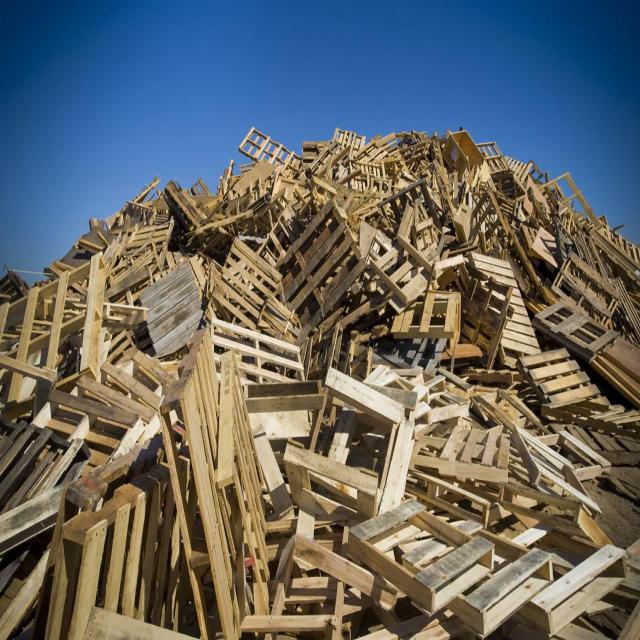green waste: (6, 97, 635, 640)
